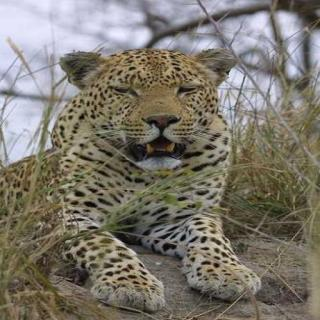Leopard: (41, 28, 313, 320)
